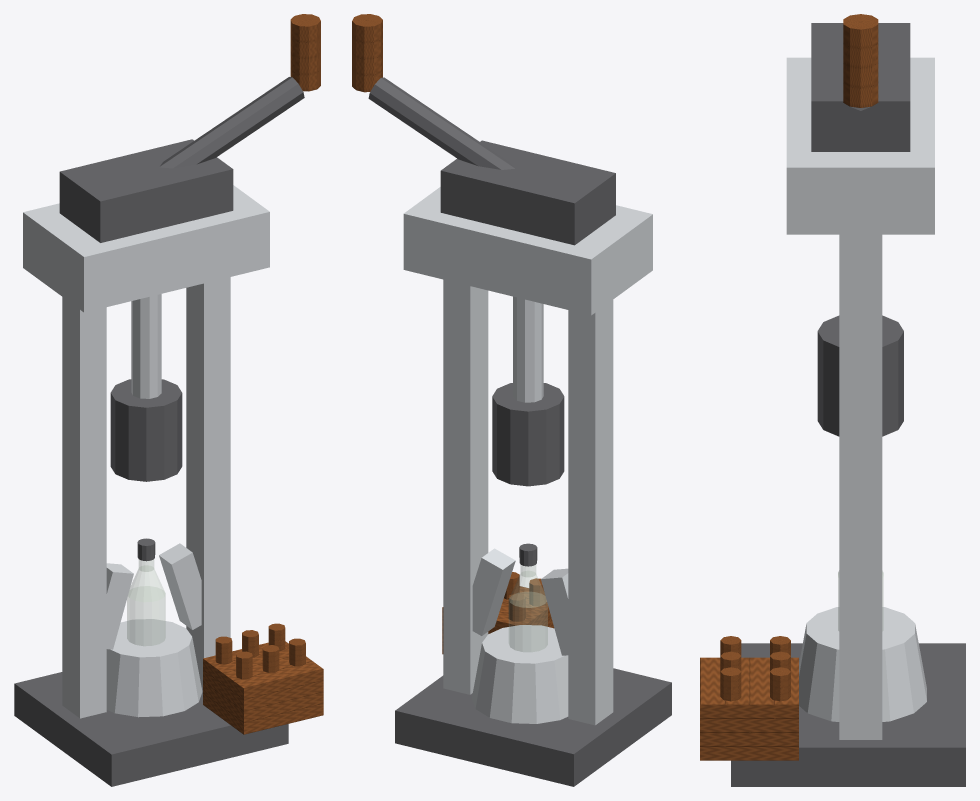
File: corker.glb
The picture shows the model from 3 angles, left to right: view 1: azimuth 30°, elevation 25°; view 2: azimuth 150°, elevation 25°; view 3: azimuth 270°, elevation 25°; orthographic projection. The views are drawn at different scales.
Parts seen in each view (by area): view 1: corker-steel, plunger/dark, corker-dark, corker-timber, plunger/steel, corker-glass, plunger/timber; view 2: corker-steel, plunger/dark, corker-dark, plunger/steel, corker-glass, corker-timber, plunger/timber; view 3: corker-steel, corker-dark, plunger/dark, corker-timber, plunger/timber.
Boxes of the visible parts, x1,y1,x2,y2 form: corker-steel: (23,185,269,718); plunger/dark: (59,77,304,481); corker-dark: (14,538,288,786); corker-timber: (203,623,323,734); plunger/steel: (131,294,161,398); corker-glass: (127,560,165,645); plunger/timber: (290,14,320,91); corker-steel: (403,187,652,725); plunger/dark: (368,77,615,486); corker-dark: (395,543,671,786); plunger/steel: (513,296,543,402); corker-glass: (509,565,547,651); corker-timber: (442,572,554,654); plunger/timber: (352,14,382,92); corker-steel: (786,57,934,739); corker-dark: (731,643,965,786); plunger/dark: (811,23,910,436); corker-timber: (700,636,798,760); plunger/timber: (843,14,878,107).
Bounding box in the file's own units: 0.6 × 1.44 × 0.43.
4 materials, 1 textured.
